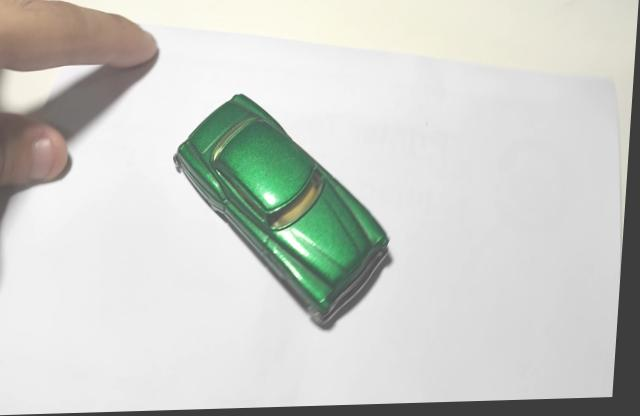06_MASERATI: (174, 96, 397, 335)
